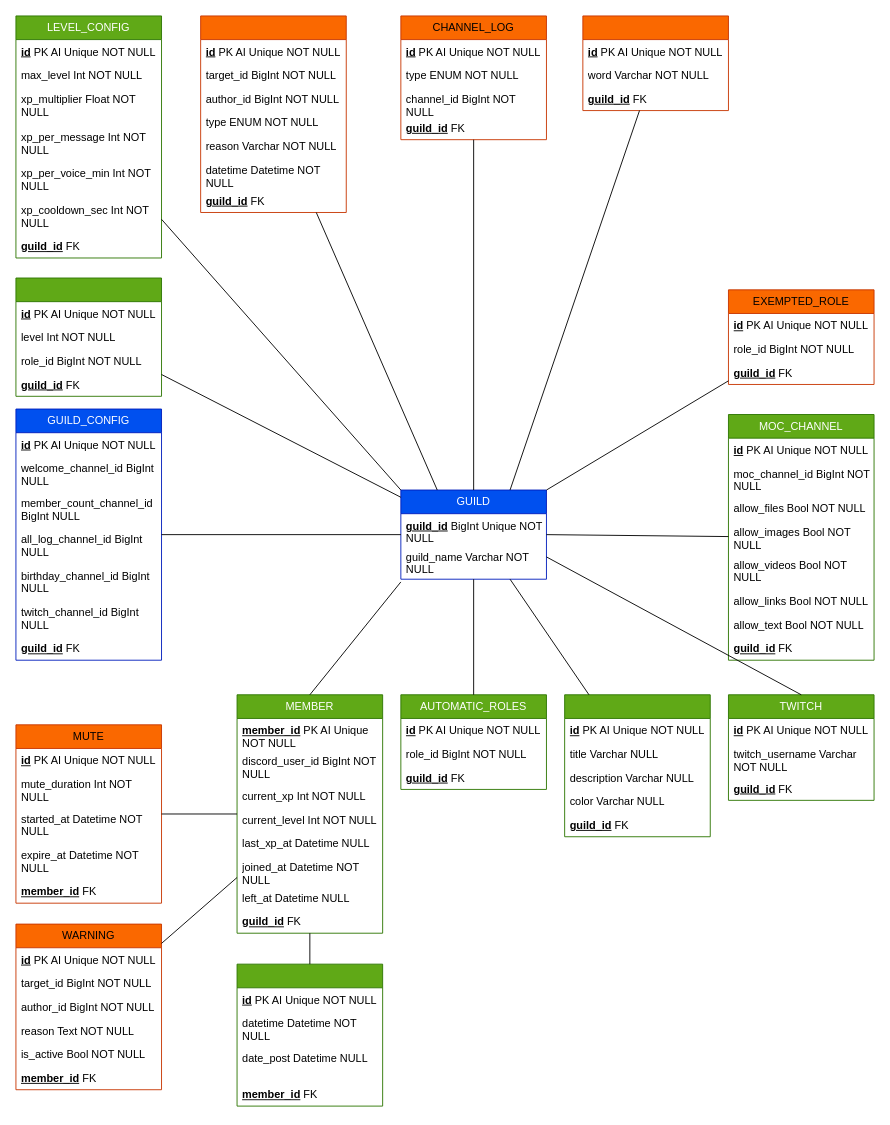
Image size: 890x1125. Some labels were removed from this diagram. The box of each missing label's shape, as (x1, y1, x2, y2) in pixels:
BIRTHDAY: (236, 963, 383, 1106)
EMBED: (564, 694, 710, 837)
FILTERED_WORD: (582, 15, 728, 111)
LEVEL_REWARD: (15, 277, 162, 396)
LOG: (200, 15, 346, 212)
